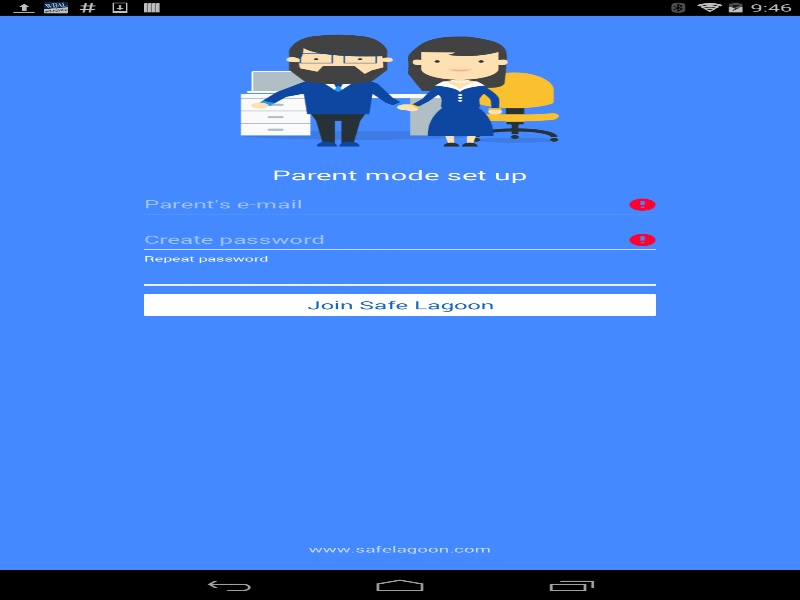Button: (138, 290, 661, 320)
Input: (138, 190, 661, 219), (138, 261, 661, 290), (138, 226, 661, 254)
